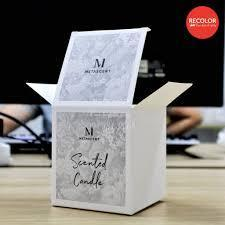box: (26, 26, 193, 216)
